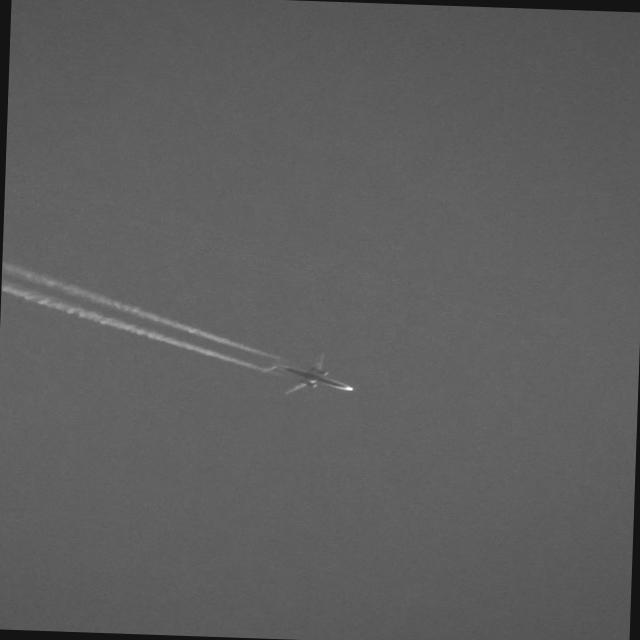aeroplane: (251, 344, 363, 398)
